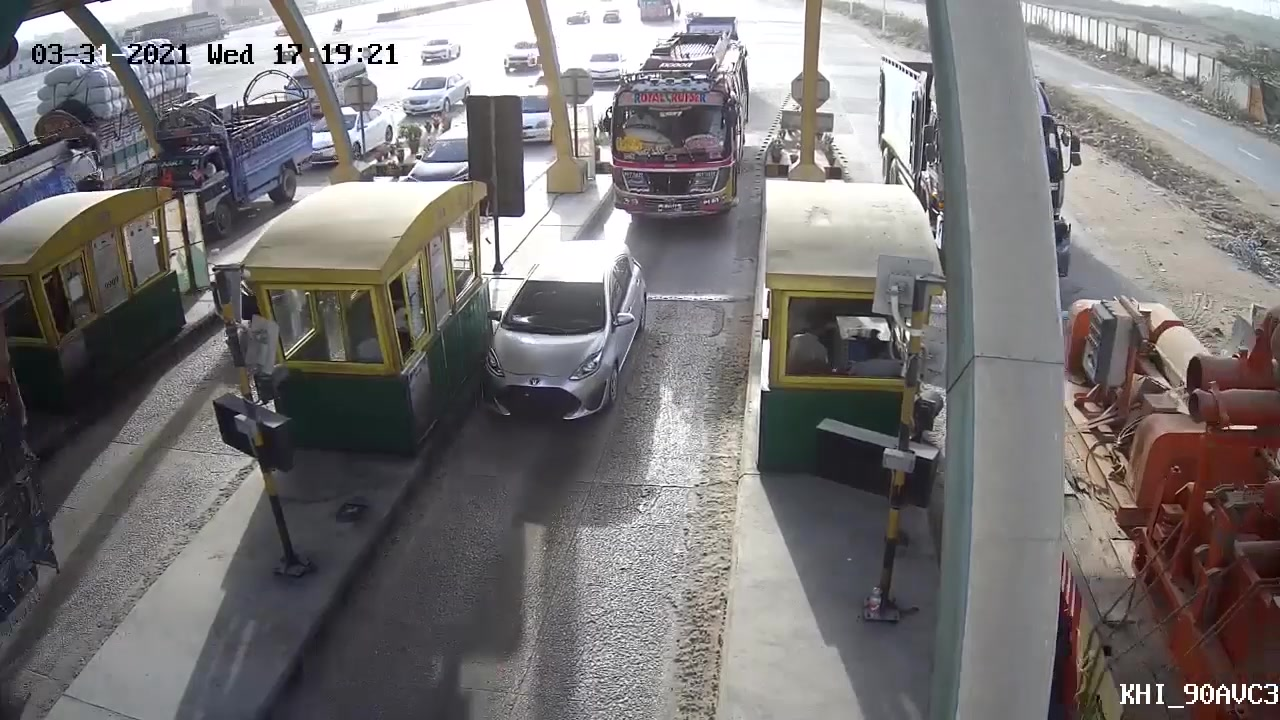F1: (481, 235, 650, 453)
